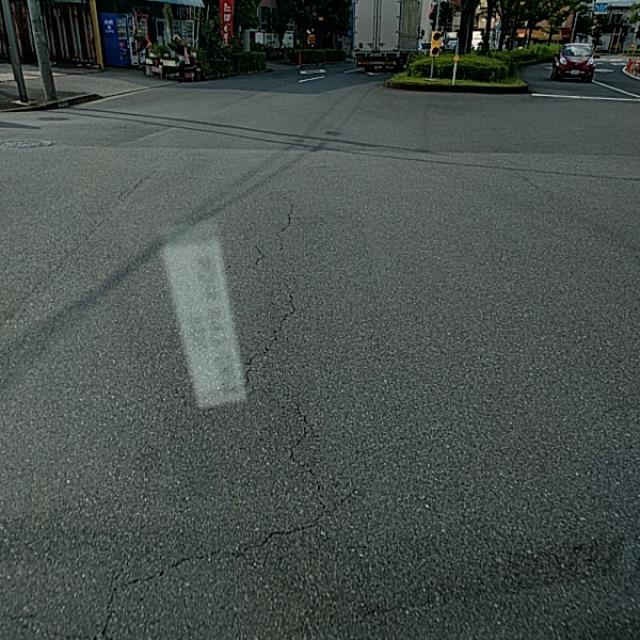pothole: (259, 343, 347, 480)
